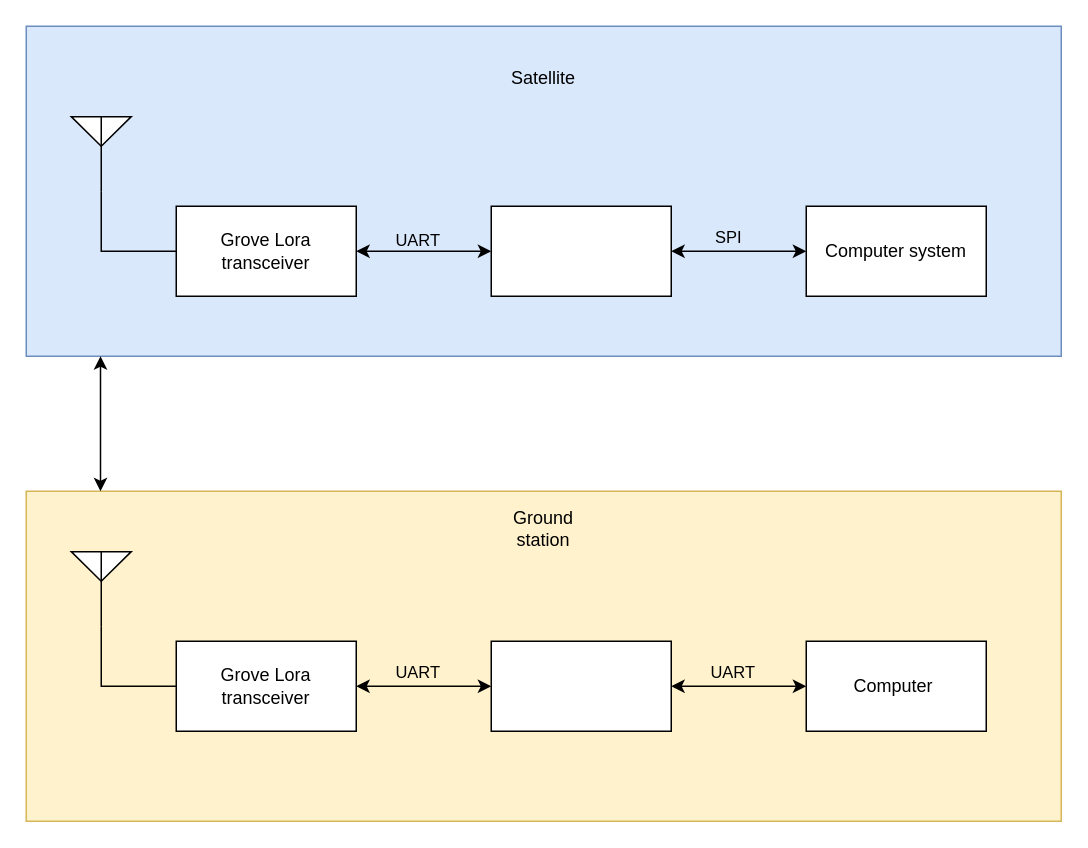
Some shapes in this 1088 by 848 pixel diagram are drawn without their labels. The shapes that lost their labels are listed below. From the top down, each one's centre as x and y in pixels, then its label:
At (580,250): "Raspberry PI 4".
At (580,685): "arduino module".
